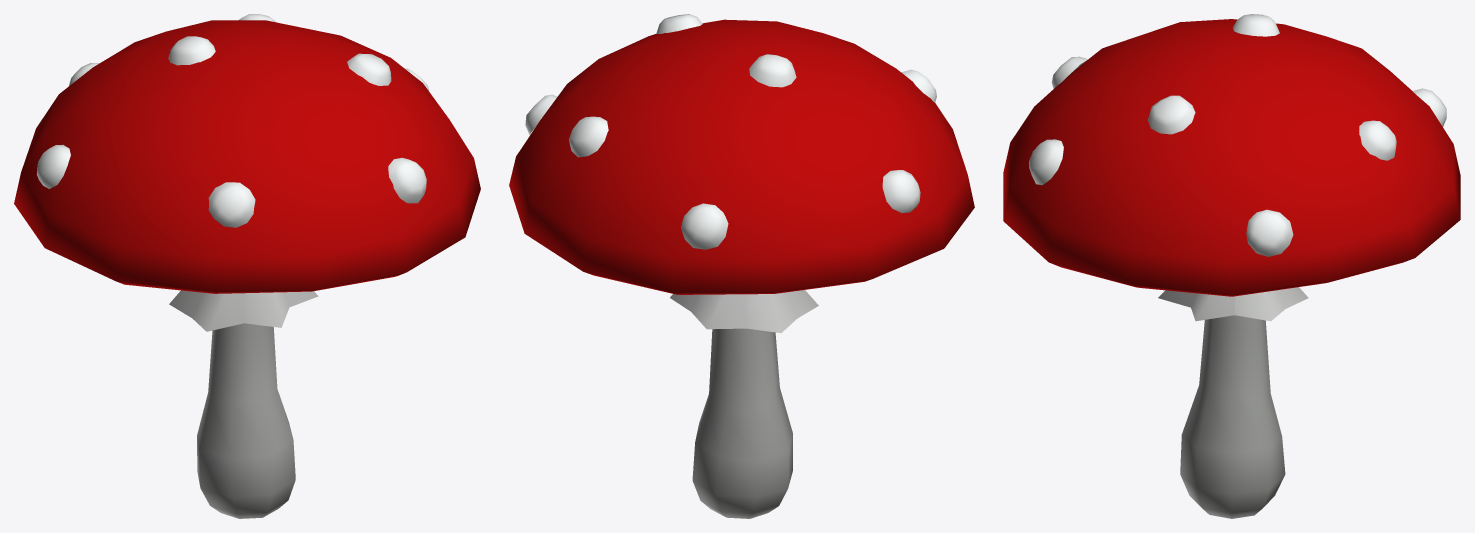
Rendered from mushroom.07.glb.
3 views of the same model, side by side, from view 1: azimuth 30°, elevation 25°; view 2: azimuth 150°, elevation 25°; view 3: azimuth 270°, elevation 25° (orthographic).
Parts seen in each view (by area): view 1: Cube.016; view 2: Cube.016; view 3: Cube.016.
Part boxes in pixels (x1,y1,x2,y2): Cube.016: [14, 14, 480, 518]; Cube.016: [509, 14, 974, 518]; Cube.016: [1003, 14, 1460, 518].
Size of the model in its own units: 0.1814 by 0.2007 by 0.1769.
1 material, 1 textured.
